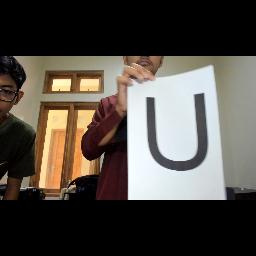u: (142, 91, 212, 173)
